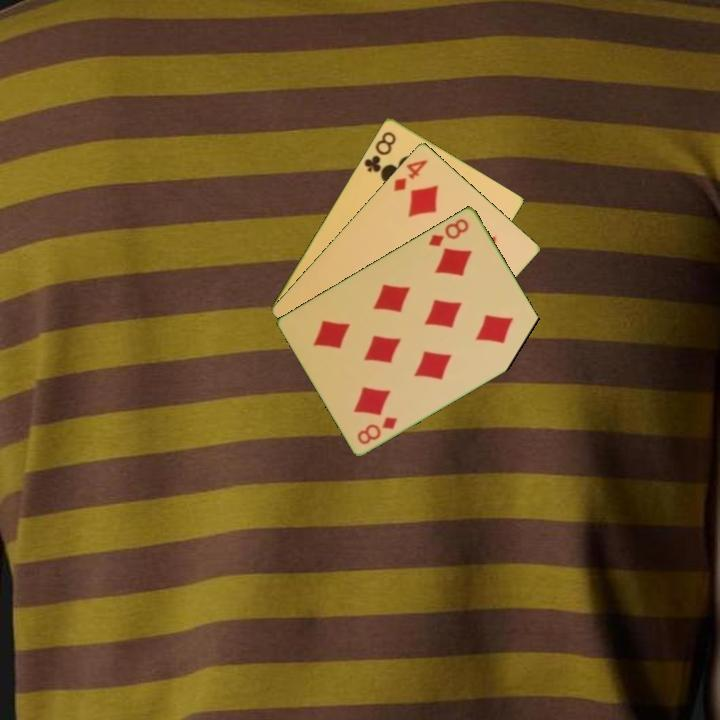4d: (390, 155, 431, 194)
8c: (360, 127, 399, 175)
8d: (425, 214, 472, 249), (353, 413, 400, 447)
